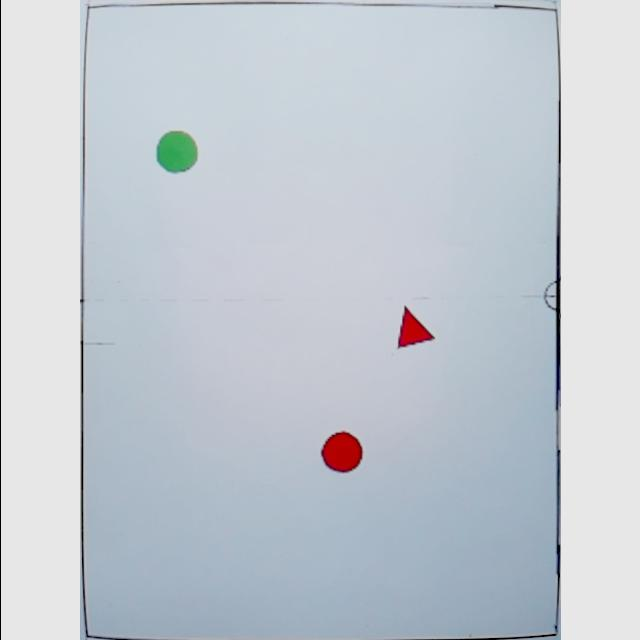greenCircle: (156, 129, 200, 175)
redCircle: (320, 430, 366, 474)
redTriangle: (397, 304, 435, 350)
